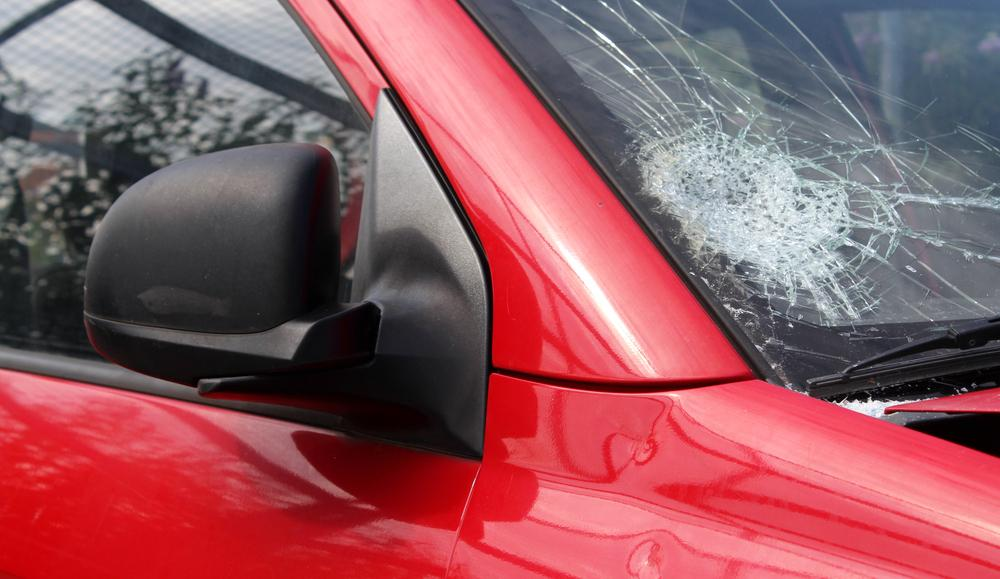dent: (629, 539, 662, 578), (628, 430, 657, 462)
glass shatter: (463, 0, 1000, 384)
